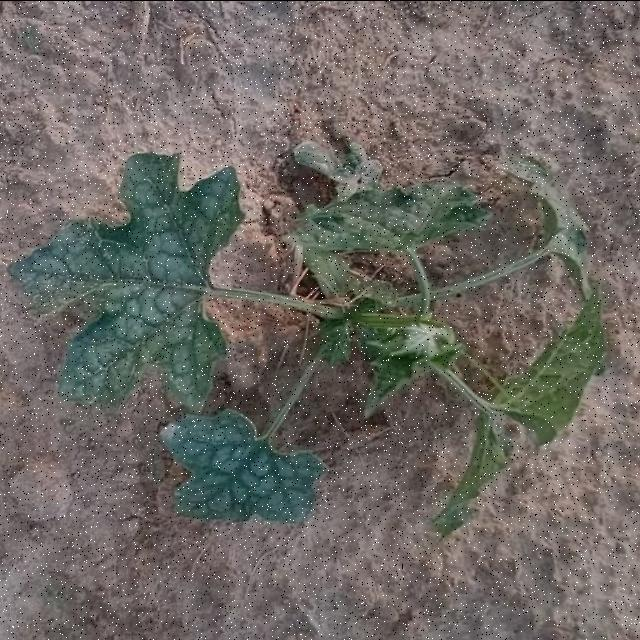plant: (9, 143, 606, 535)
